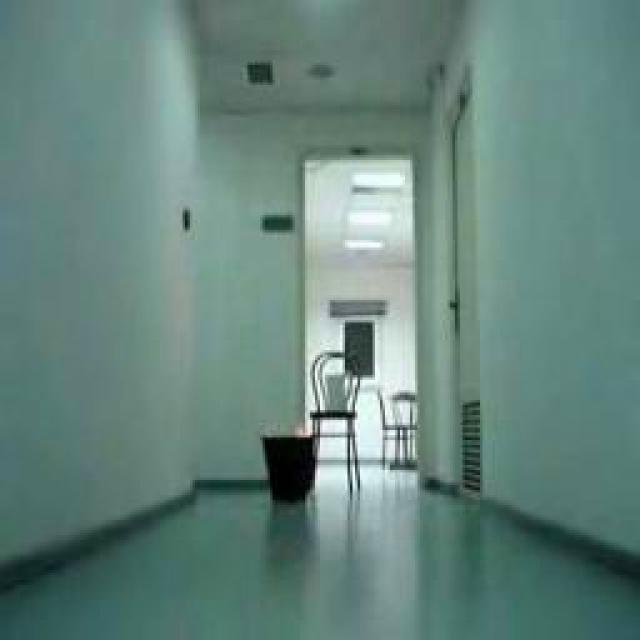Fire: (293, 424, 303, 432)
